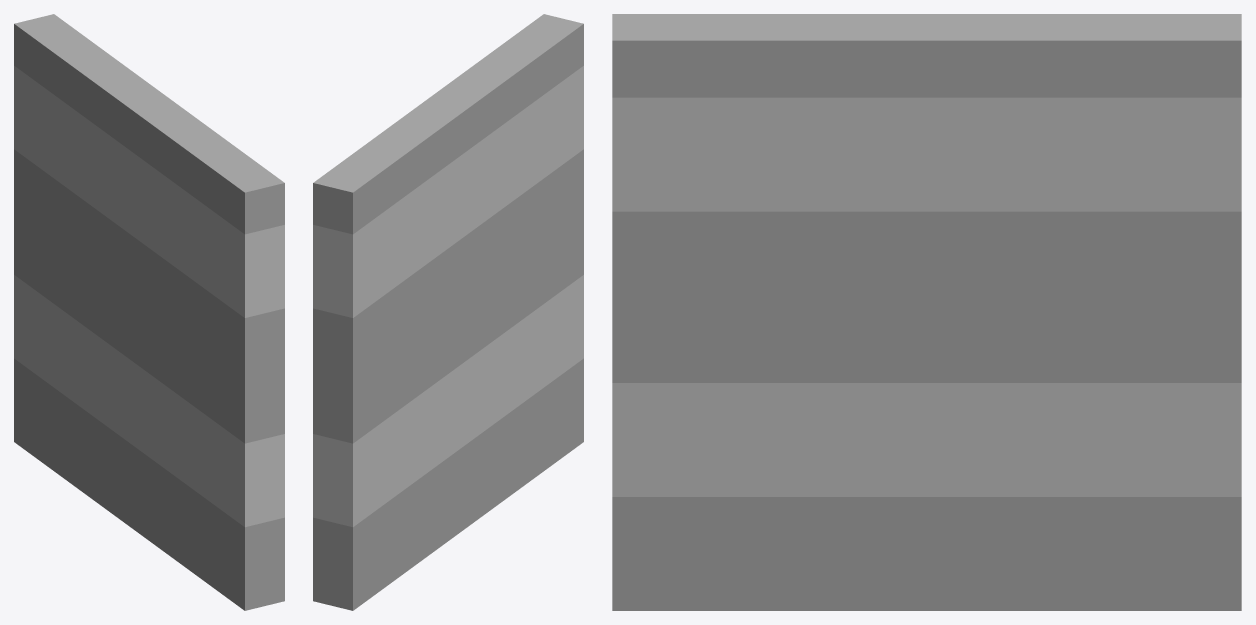
Rendered from dirt_wall_D_10.obj.
The picture shows the model from 3 angles, left to right: view 1: azimuth 30°, elevation 25°; view 2: azimuth 150°, elevation 25°; view 3: azimuth 270°, elevation 25°; orthographic projection. The views are drawn at different scales.
Bounding box in the file's own units: 0.1 × 1 × 1.
1 material, 1 textured.
